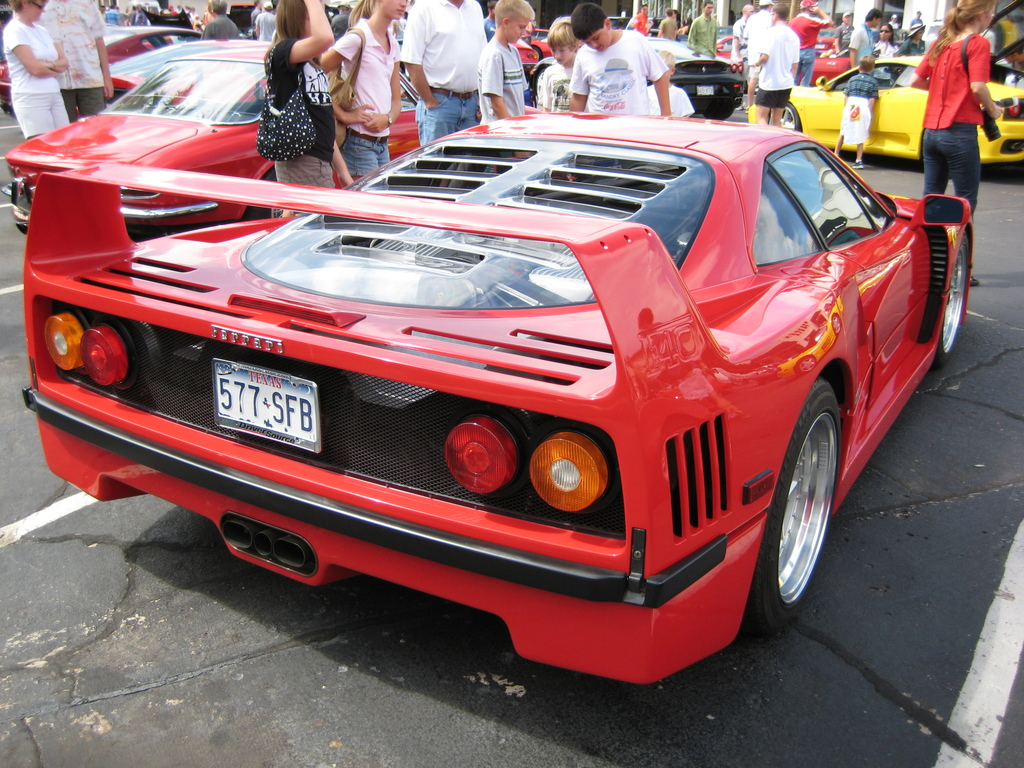Person: (0, 0, 1003, 291)
